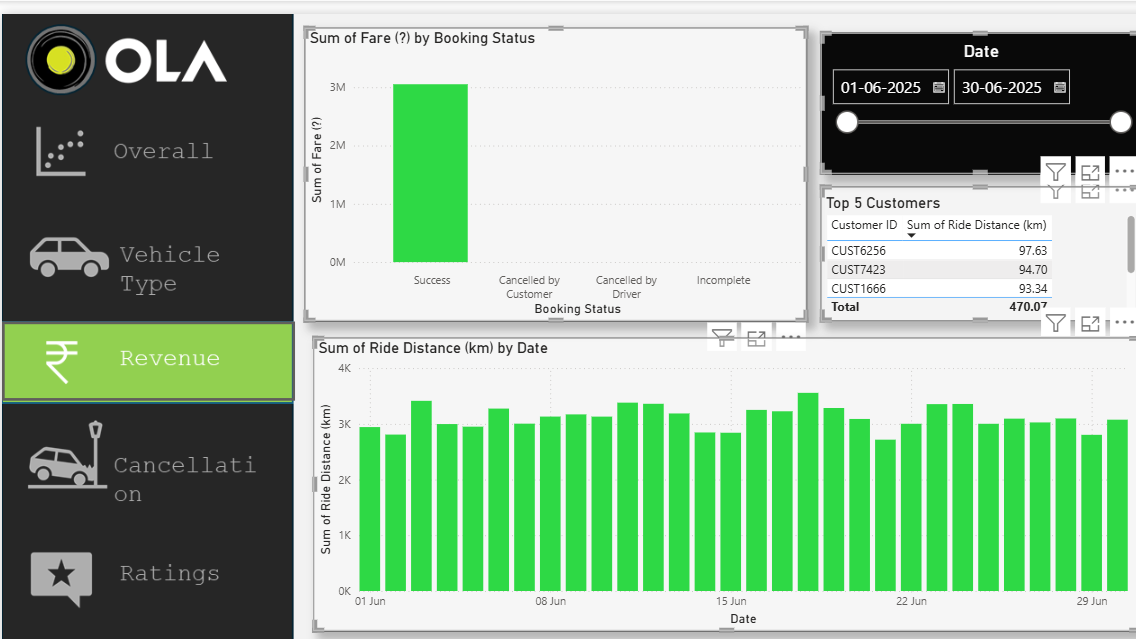

This screenshot's page, from the dashboard's own definition file:
{"tool":"powerbi","page":{"name":"Revenue","canvas":[1280,720],"ordinal":1},"visuals":[{"type":"actionButton","box":[0,229.2,325.7,90.5],"z":0},{"type":"actionButton","box":[0,341.4,325.7,88.1],"z":1000},{"type":"actionButton","box":[0,445.2,325.7,108.6],"z":2000},{"type":"actionButton","box":[0,580.3,325.7,90.5],"z":3000},{"type":"actionButton","box":[0,102.5,326.2,88.8],"z":4000},{"type":"columnChart","fields":{"Y":["Sum(ola final.Fare (?))"],"Category":["ola final.Booking Status"]},"box":[336.2,15.1,558.5,326.6],"z":5000},{"type":"columnChart","fields":{"Y":["Sum(ola final.Ride Distance (km))"],"Category":["ola final.Date"]},"box":[345.8,359.5,919.4,326.6],"z":6000},{"type":"slicer","title":"Date","fields":{"Values":["ola final.Date"]},"box":[909.8,20.6,355.4,157.8],"z":7000},{"type":"tableEx","title":"Top 5 Customers","fields":{"Values":["ola final.Customer ID","Sum(ola final.Ride Distance (km))"]},"box":[909.8,192.1,355.4,149.6],"z":8000}]}

Visuals, with their boxes in screenshot pixels (x1, y1, x2, y2), scaled from the page's 1280x720 canvas onto the 1136x639 screenshot:
actionButton: l=0, t=203, r=289, b=284
actionButton: l=0, t=303, r=289, b=381
actionButton: l=0, t=395, r=289, b=491
actionButton: l=0, t=515, r=289, b=595
actionButton: l=0, t=91, r=290, b=170
columnChart - Sum(ola final.Fare (?)) x ola final.Booking Status: l=298, t=13, r=794, b=303
columnChart - Sum(ola final.Ride Distance (km)) x ola final.Date: l=307, t=319, r=1123, b=609
"Date" slicer: l=807, t=18, r=1123, b=158
"Top 5 Customers" tableEx: l=807, t=170, r=1123, b=303
